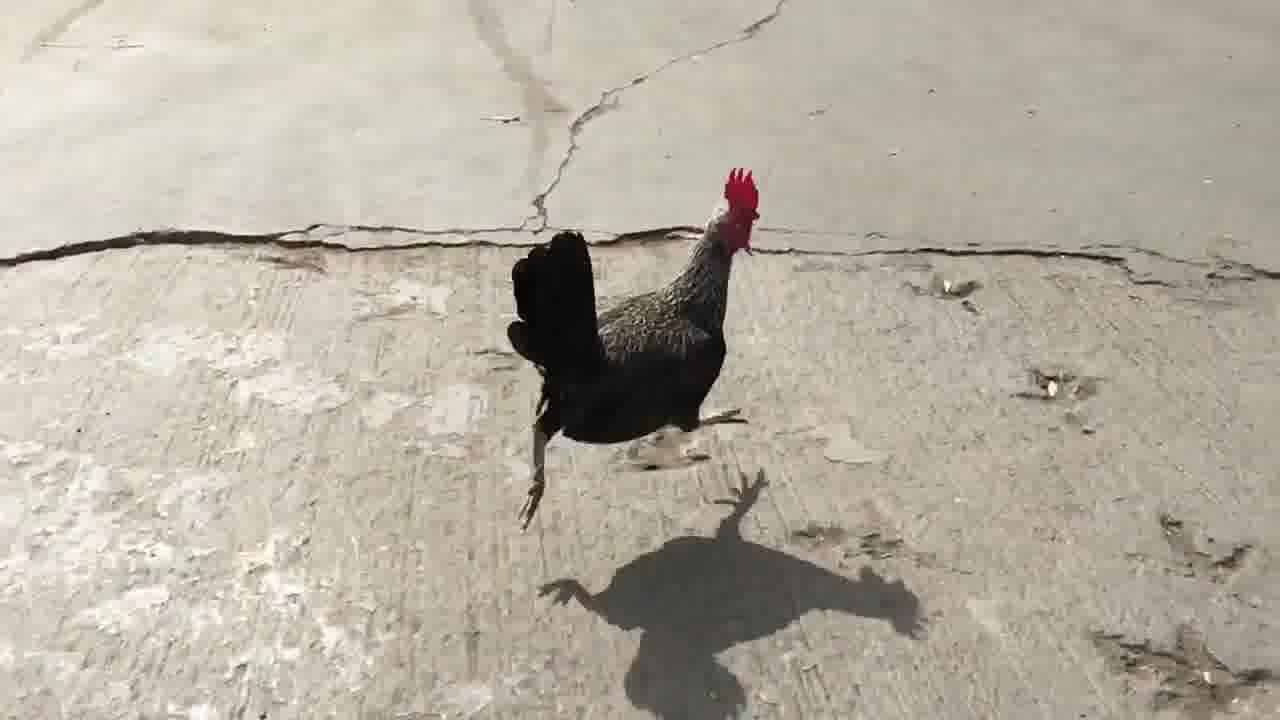Normal: (498, 164, 794, 524)
